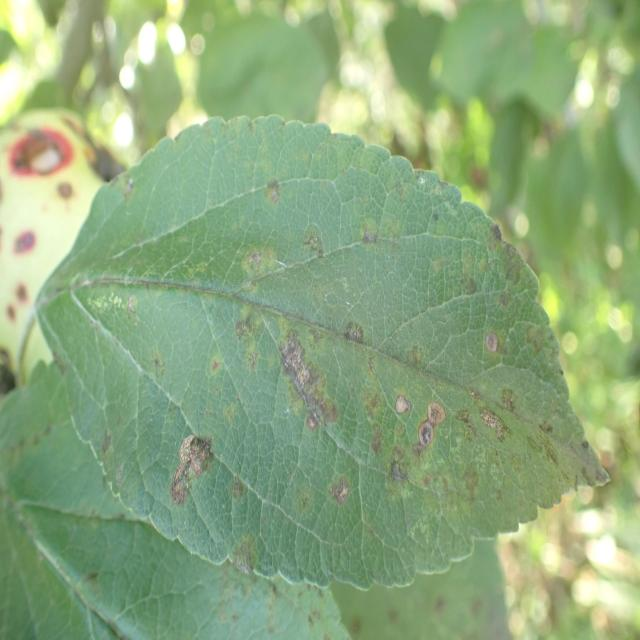frog-eye-leaf-spot: (30, 117, 612, 589)
